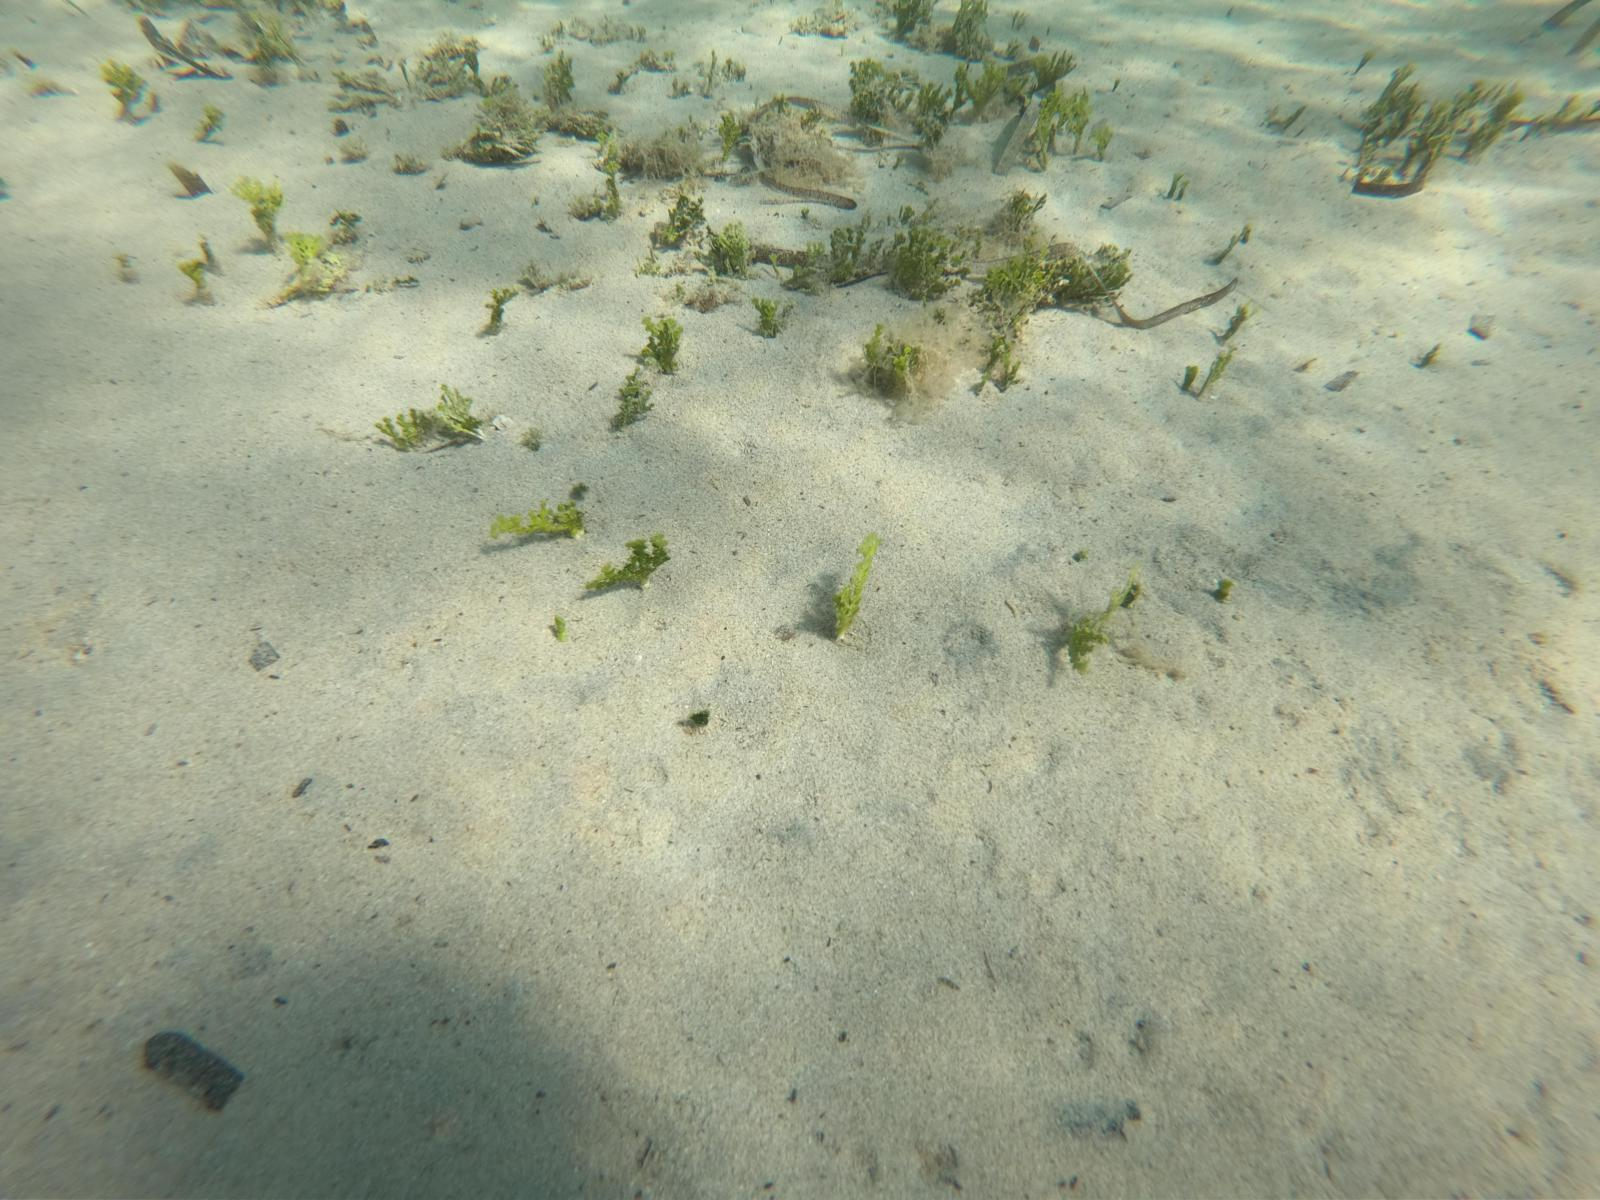halimeda: (380, 389, 485, 456), (829, 521, 884, 643), (852, 68, 946, 136), (585, 534, 673, 606), (483, 494, 590, 547), (1049, 250, 1128, 310), (891, 224, 952, 296), (978, 256, 1060, 303), (1367, 77, 1422, 142), (1033, 86, 1085, 153), (941, 3, 995, 64), (1468, 91, 1513, 164), (1062, 610, 1112, 676), (236, 174, 286, 238), (862, 323, 911, 387), (1414, 96, 1480, 142), (961, 62, 1010, 116), (825, 217, 868, 277), (988, 297, 1023, 371), (704, 224, 751, 279), (661, 192, 708, 243), (1398, 129, 1437, 189), (1177, 350, 1237, 389), (103, 58, 144, 115), (609, 378, 651, 430), (643, 319, 684, 371), (1007, 187, 1046, 237), (751, 295, 795, 337), (598, 159, 624, 223), (716, 107, 745, 160), (894, 5, 934, 42), (289, 238, 325, 274), (549, 55, 568, 120), (483, 289, 515, 325), (185, 261, 210, 308), (1220, 306, 1252, 342), (460, 48, 486, 91), (1351, 145, 1376, 184), (1091, 126, 1112, 163), (198, 111, 220, 139)
